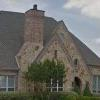Chimney: (24, 2, 48, 22)
